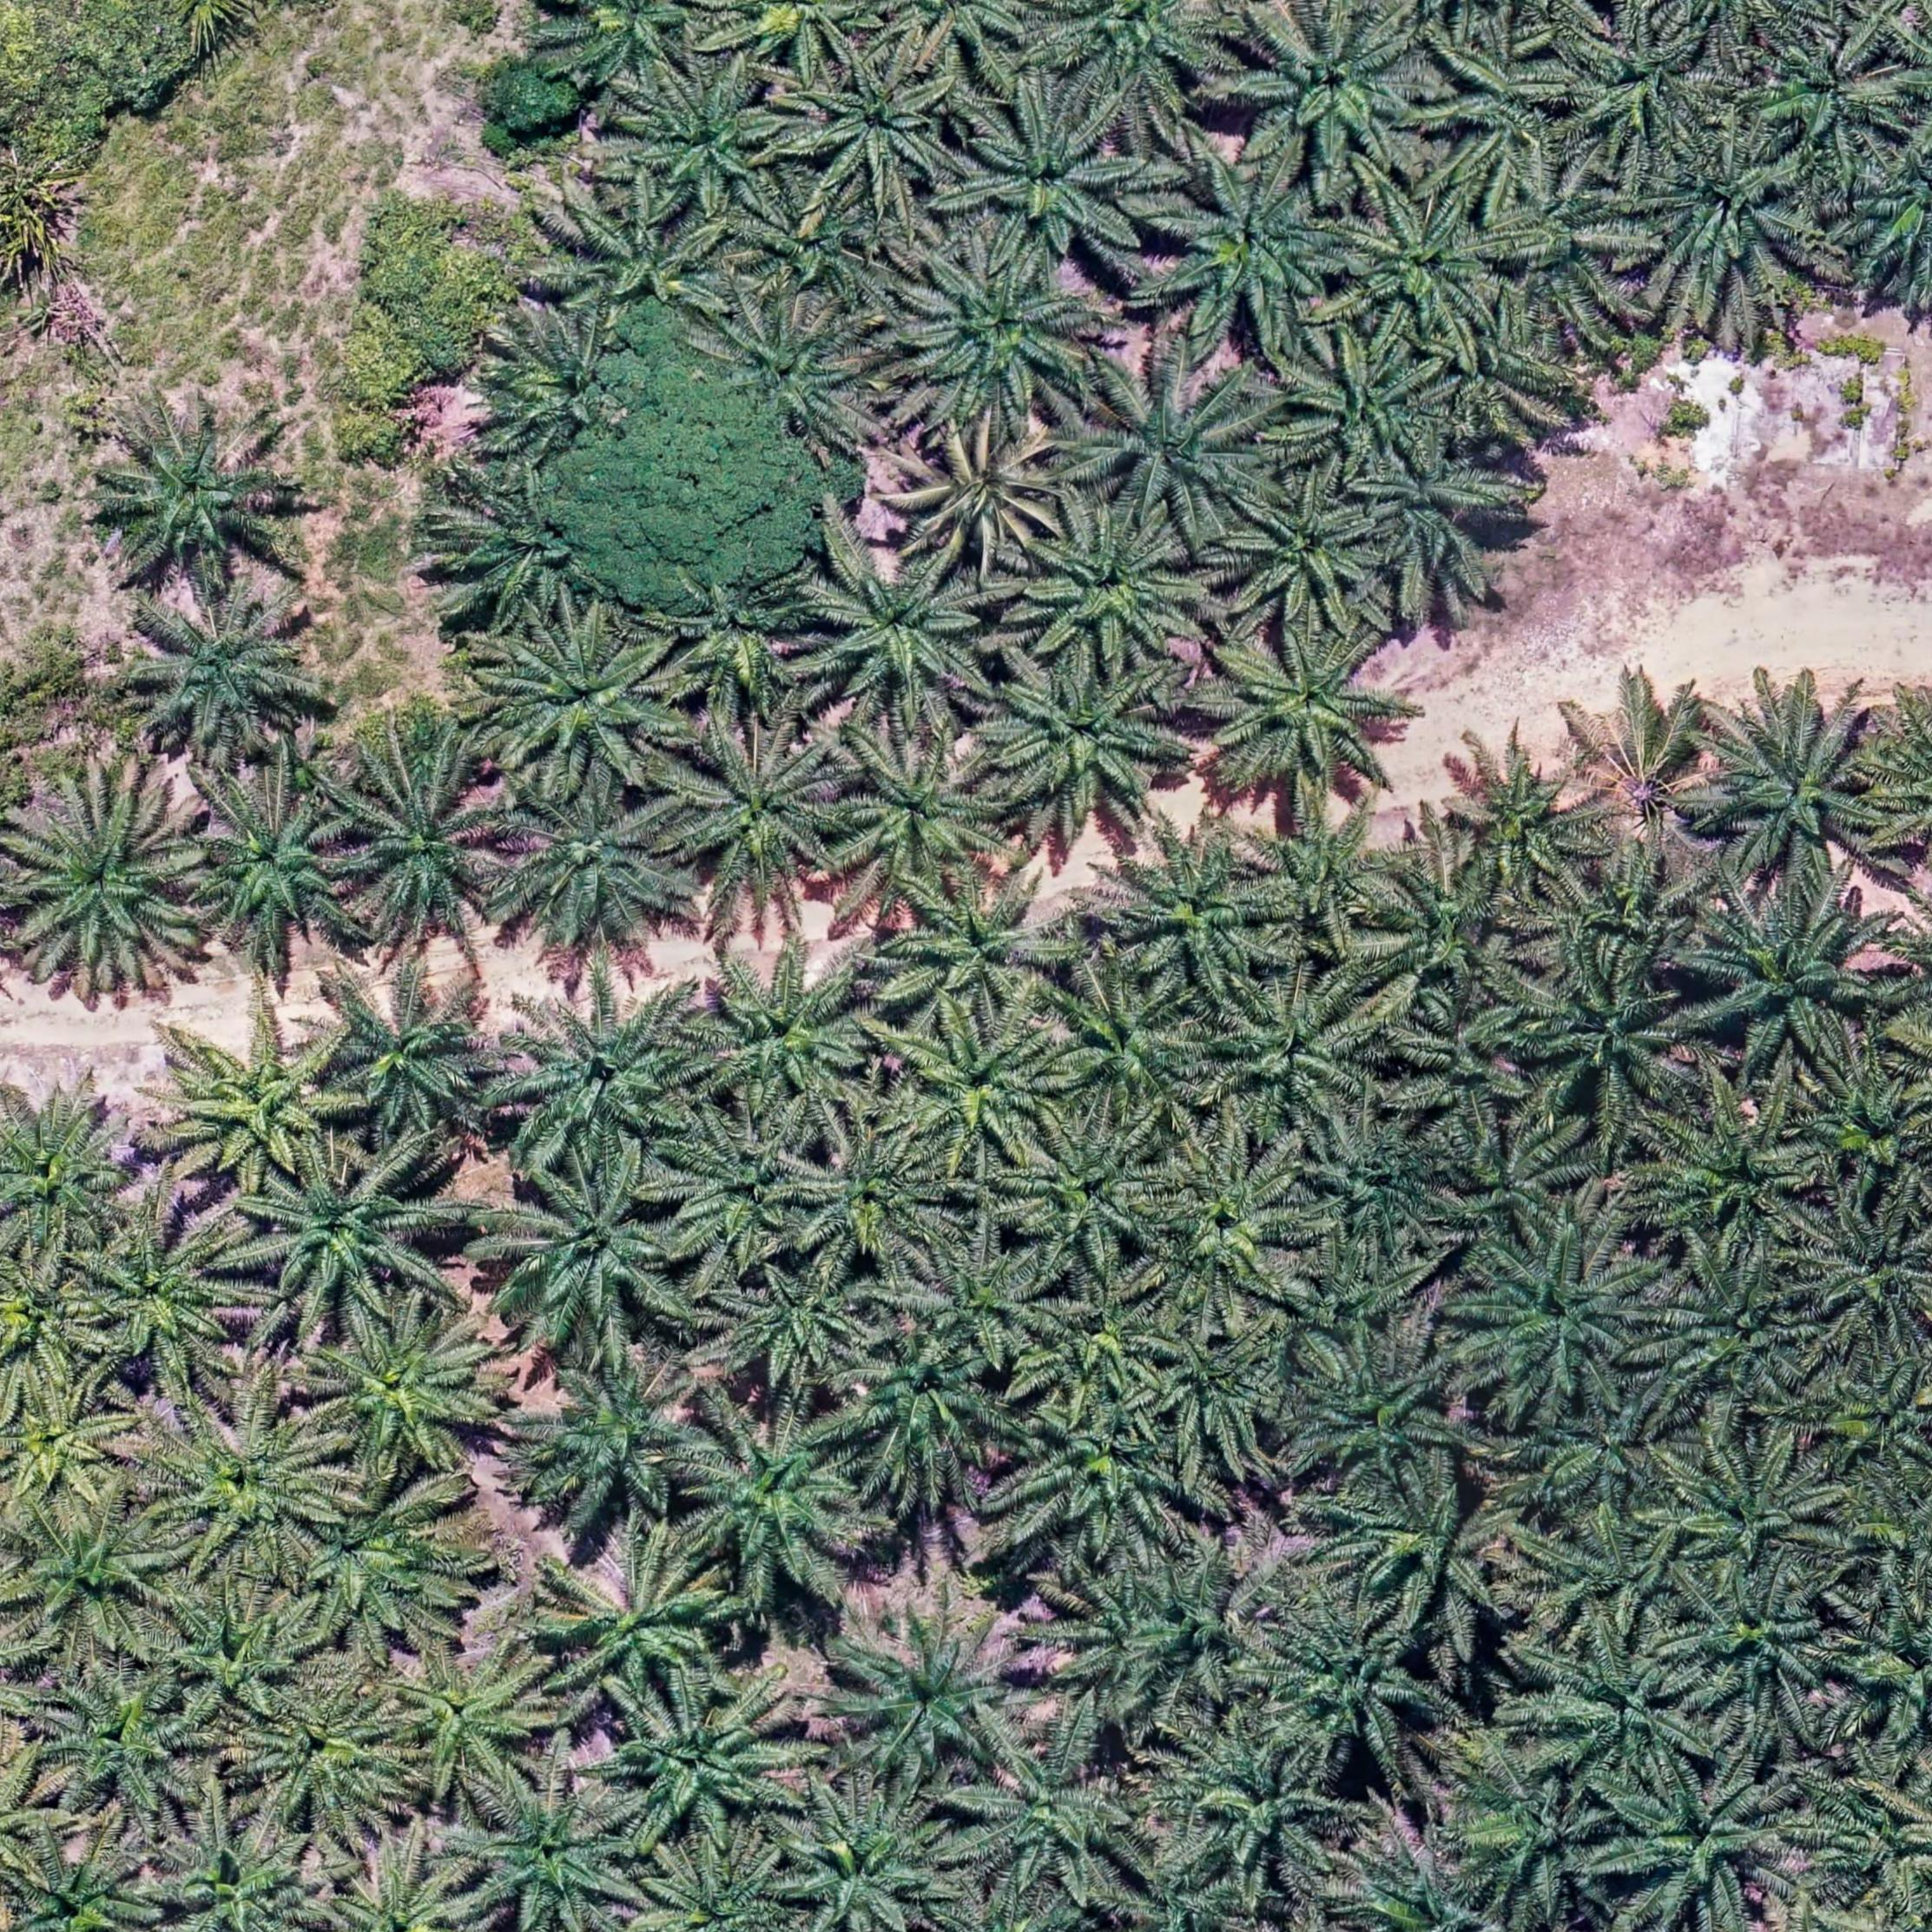palmtree: (1044, 1553, 1276, 1744), (1151, 145, 1364, 349), (829, 1599, 1043, 1797), (1686, 881, 1901, 1078), (501, 977, 715, 1172), (12, 775, 211, 985), (684, 935, 895, 1131), (1195, 623, 1411, 809), (488, 1162, 694, 1355), (1699, 690, 1901, 886), (892, 244, 1101, 432), (1464, 1219, 1664, 1415), (677, 1405, 876, 1601), (241, 1144, 452, 1328), (155, 1001, 353, 1194), (980, 650, 1190, 833), (1236, 3, 1446, 185), (1197, 967, 1400, 1150), (958, 91, 1151, 281), (518, 1345, 716, 1530), (1076, 356, 1276, 537), (806, 540, 1001, 723), (153, 1390, 348, 1573), (961, 1733, 1161, 1910), (309, 1304, 508, 1479), (1013, 496, 1210, 672), (1001, 1390, 1197, 1566), (664, 726, 854, 907), (102, 411, 292, 591), (299, 1467, 488, 1648), (609, 1680, 809, 1850), (484, 621, 678, 795), (1259, 1597, 1449, 1775), (1101, 821, 1288, 1000), (1629, 134, 1816, 311), (1334, 1471, 1531, 1639), (1329, 185, 1517, 359), (830, 735, 1020, 906), (1513, 958, 1705, 1127), (544, 1541, 733, 1711), (492, 785, 684, 953), (72, 1206, 251, 1386), (884, 862, 1076, 1029), (186, 780, 368, 955), (320, 967, 500, 1144), (1137, 1135, 1315, 1313), (840, 1320, 1025, 1491), (1612, 1757, 1799, 1926), (1639, 1095, 1825, 1263), (338, 763, 516, 939), (1170, 1724, 1354, 1893), (130, 587, 313, 755), (237, 1672, 422, 1837), (447, 470, 630, 632), (1295, 1333, 1474, 1498), (1641, 1251, 1824, 1411), (1524, 849, 1718, 1000), (1446, 1755, 1620, 1921), (384, 1635, 560, 1799), (552, 197, 735, 354), (1350, 433, 1520, 602), (1004, 1112, 1177, 1276), (894, 1009, 1069, 1170), (788, 46, 964, 207), (1442, 743, 1613, 907), (35, 1664, 211, 1823), (649, 564, 830, 718), (780, 1787, 971, 1932), (1533, 1630, 1711, 1783), (13, 1499, 186, 1656), (625, 63, 801, 218), (663, 1108, 827, 1272), (465, 1776, 639, 1929), (1220, 472, 1388, 632), (785, 1121, 958, 1275), (1678, 1565, 1850, 1718), (1368, 855, 1536, 1012), (0, 1087, 144, 1269), (1042, 971, 1212, 1123), (708, 296, 880, 446), (1279, 334, 1454, 482), (1296, 1106, 1467, 1256), (716, 1252, 893, 1395), (1032, 0, 1246, 116), (1557, 16, 1721, 166), (900, 430, 1068, 575), (155, 1582, 325, 1719), (144, 1807, 331, 1932), (1252, 798, 1415, 940), (1497, 159, 1642, 319), (1433, 31, 1580, 188), (1139, 1322, 1296, 1465), (1753, 27, 1910, 169), (1676, 1443, 1840, 1578), (1535, 1517, 1702, 1644), (486, 329, 636, 470), (1400, 994, 1542, 1141), (1025, 1275, 1175, 1414), (739, 178, 892, 311), (912, 1235, 1065, 1367), (1796, 1054, 1932, 1199), (0, 1382, 135, 1526), (1438, 1121, 1588, 1249), (1804, 1203, 1932, 1353), (1533, 1399, 1690, 1517), (1292, 1239, 1445, 1359), (1435, 308, 1578, 436), (624, 1842, 812, 1932), (1332, 1840, 1507, 1932), (552, 0, 720, 95), (1833, 1600, 1932, 1759), (10, 1836, 170, 1932), (0, 1249, 106, 1395), (1824, 1773, 1932, 1916), (1817, 1349, 1932, 1480), (1874, 695, 1931, 868)
